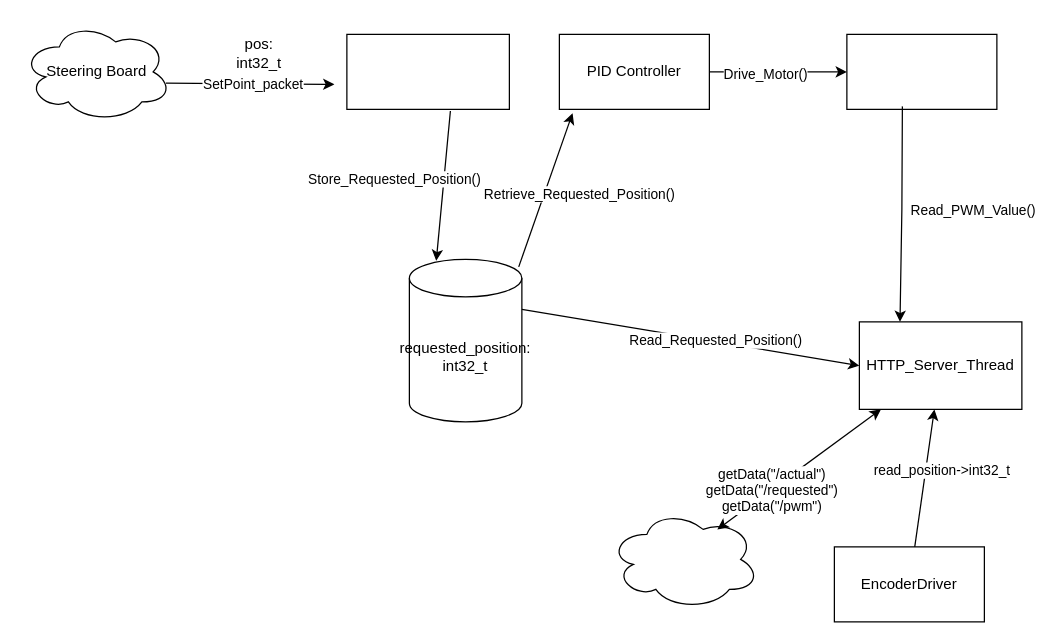
The diagram is 1056 pixels wide and 644 high, and some of its shapes have lost their labels. The shapes that lost their labels are listed below. From the top down, each one's centre as x and y in pixels, then its label:
the point at 427,71: RX_UDP_THREAD
the point at 921,71: Motor_Driver
the point at 683,558: HTTP Client
